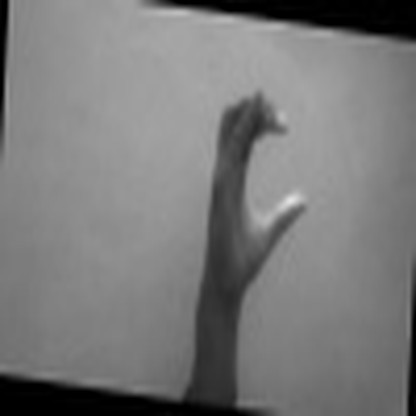c: (206, 80, 309, 280)
